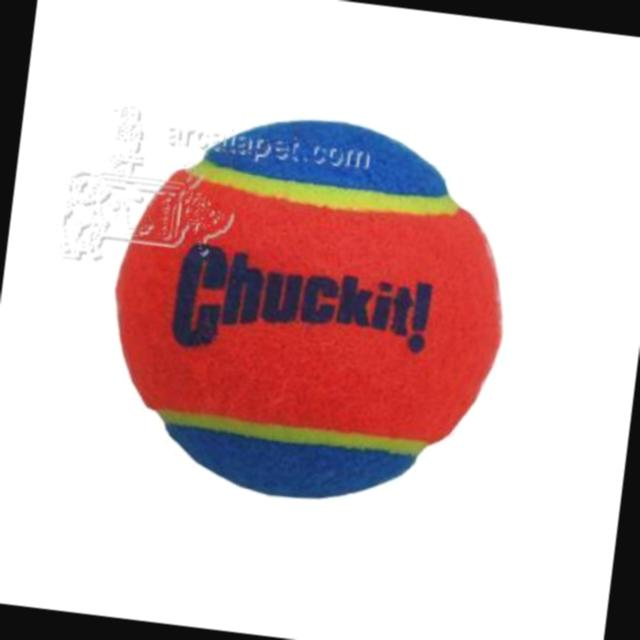Tennis Ball: (113, 121, 503, 501)
